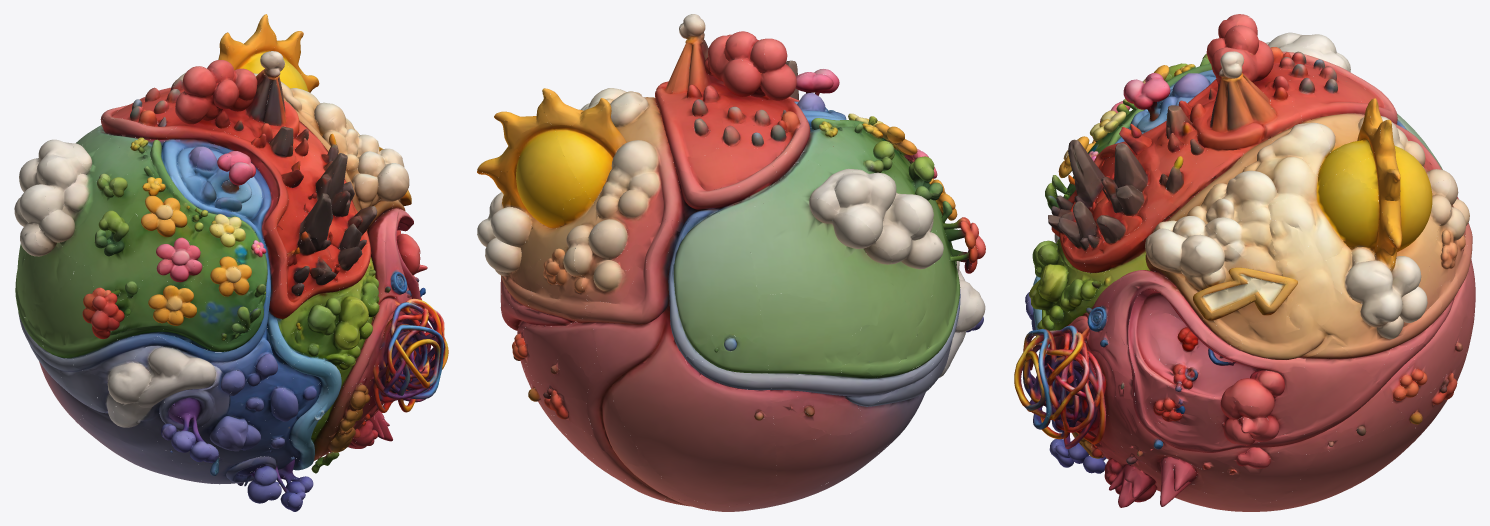
The model's file is planeta.glb.
3 renders of one model, left to right at view 1: azimuth 30°, elevation 25°; view 2: azimuth 150°, elevation 25°; view 3: azimuth 270°, elevation 25°, orthographic. The views are drawn at different scales.
Parts seen in each view (by area): view 1: SM_Planeta; view 2: SM_Planeta; view 3: SM_Planeta.
Boxes of the visible parts, <box> form: SM_Planeta: <box>14,14,448,511</box>; SM_Planeta: <box>477,14,985,511</box>; SM_Planeta: <box>1014,14,1475,511</box>.
Size of the model in its own units: 2.27 by 2.25 by 2.03.
1 material, 1 textured.
